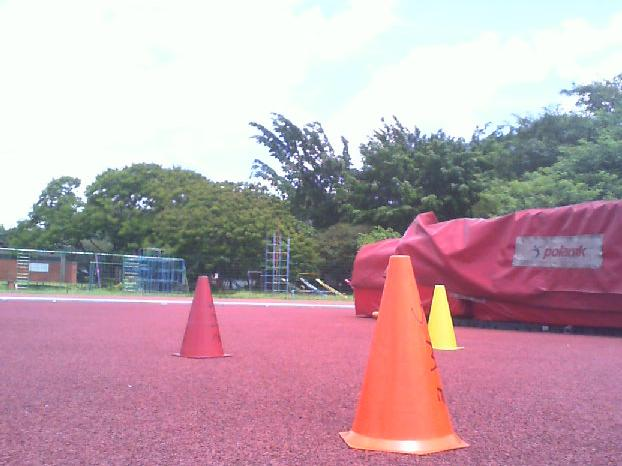0 cone: (337, 255, 472, 455), (171, 276, 234, 359), (428, 285, 464, 350)
